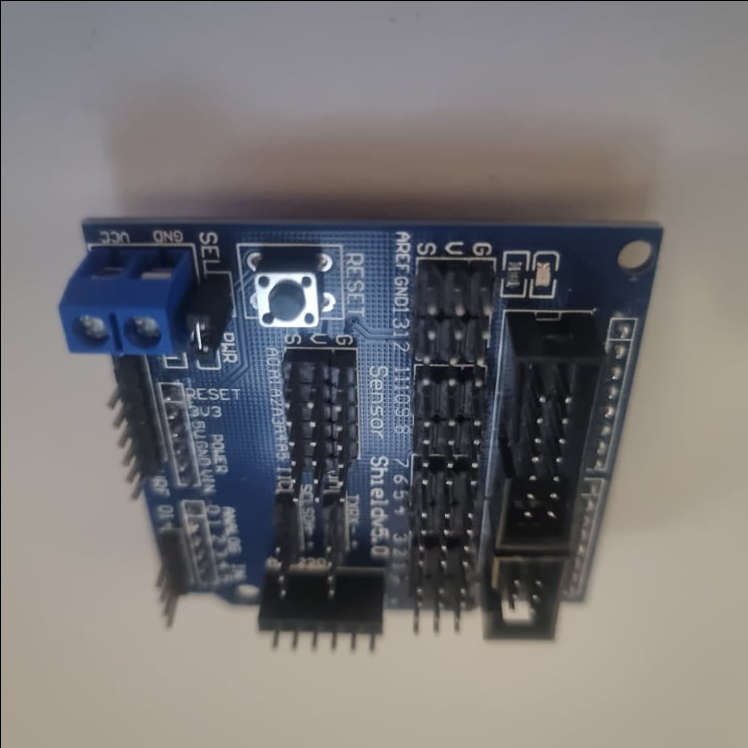5V EXPANSION: (57, 211, 667, 649)
